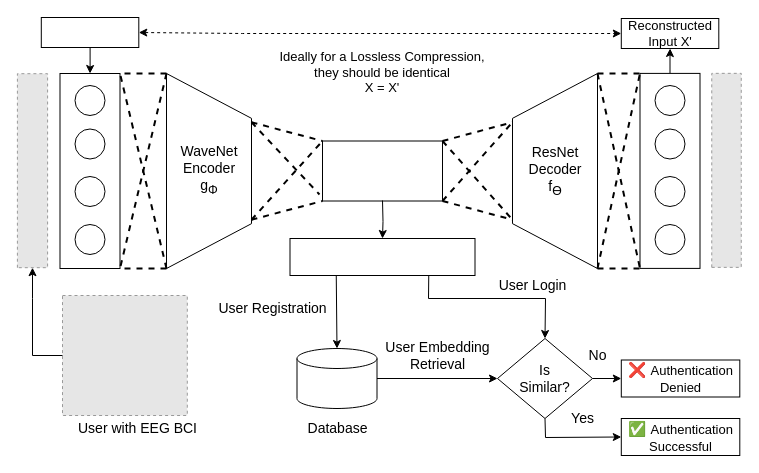
This 759x473 diagram has some shape labels left out. Grey dashed boxes stand in for pictures. The centre of each missing label's shape, as x and y in pixels:
Compressed Low Dimensional Representation of X: point (382, 257)
Latent Space Embedding z: point (382, 170)
Original Input X: point (89, 32)
